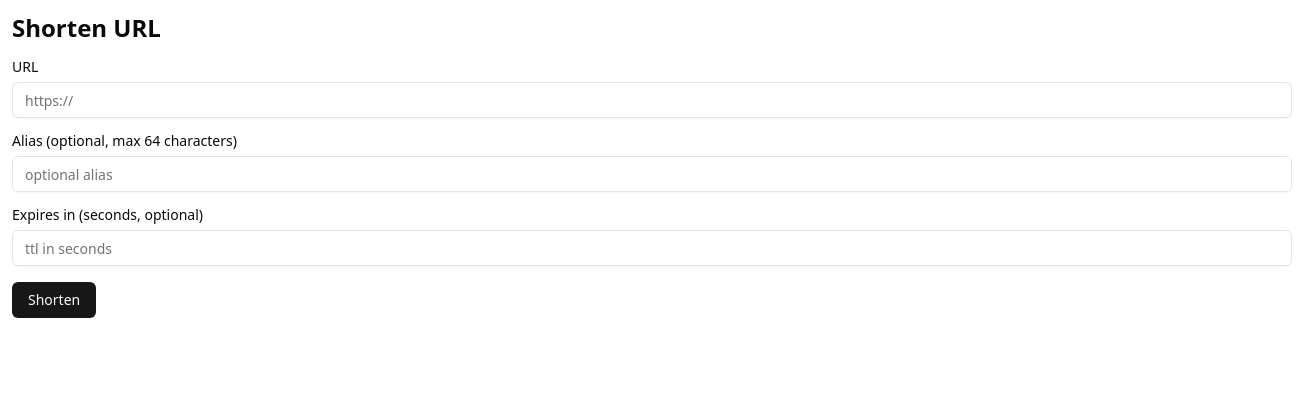
Test case: HomePage › 201 shows shortUrl and confirms copy
Type "https://example.com/very/long/path" into the field labelled "URL" at (652, 100), box [12,82,1292,118]
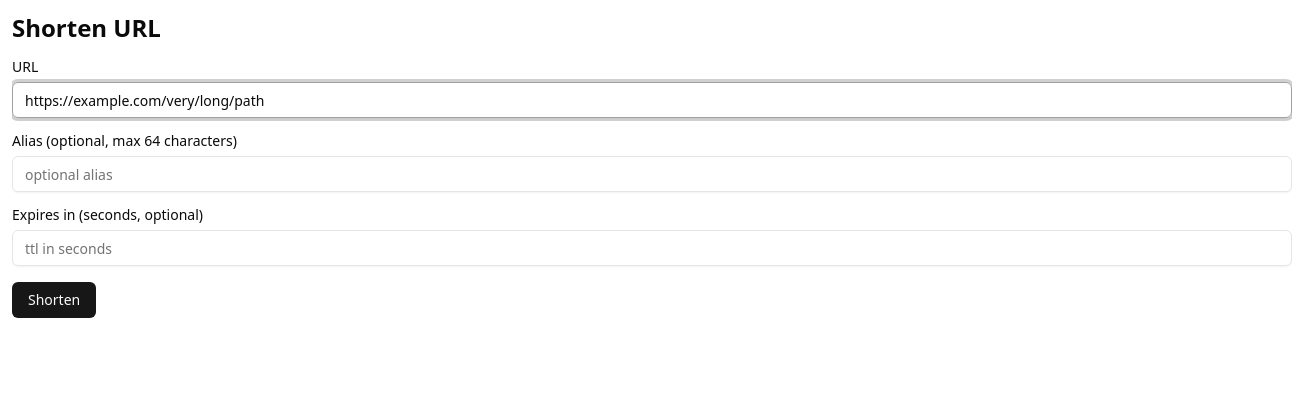
Click the button "Shorten" at (54, 300), box [12,282,96,318]
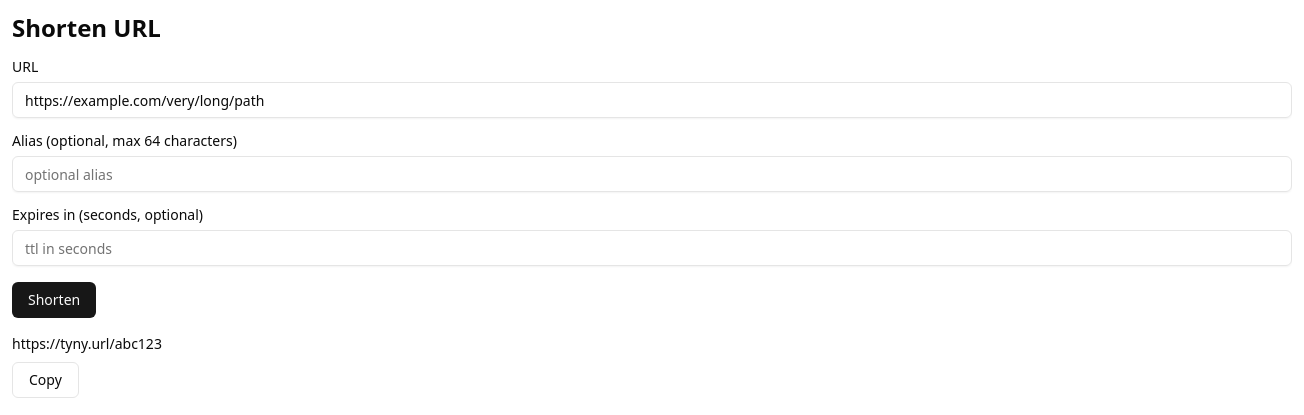
Check: the text "https://tyny.url/abc123" is shown, box [12,334,162,353]
Click the button "Copy" at (45, 380), box [12,362,79,398]
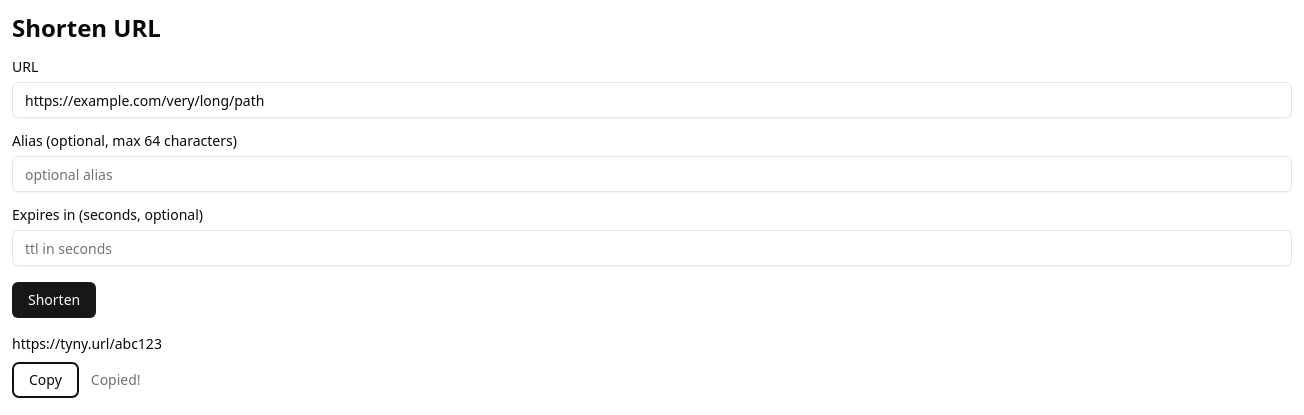
Check: the text "Copied!" is shown, box [91,370,141,390]
